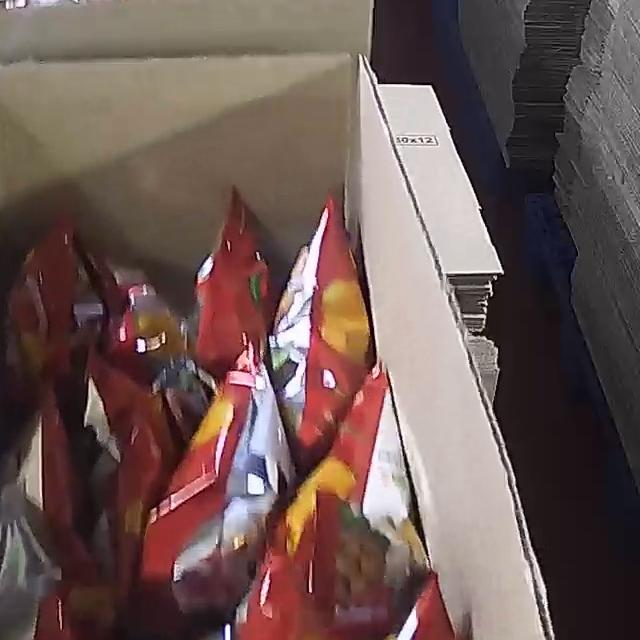masala: (0, 182, 442, 640)
